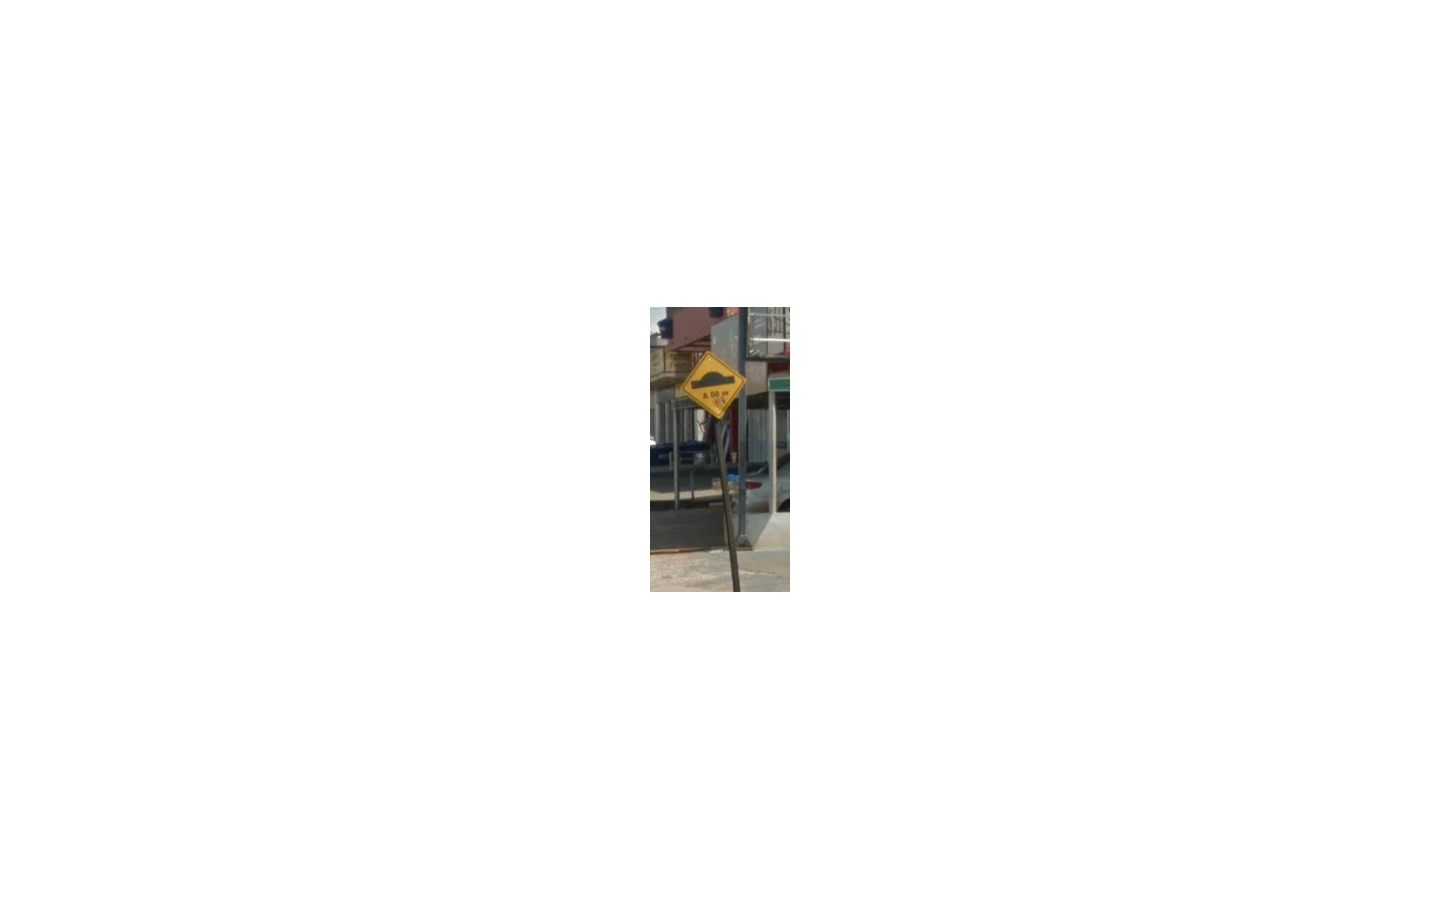l50m: (679, 351, 747, 419)
